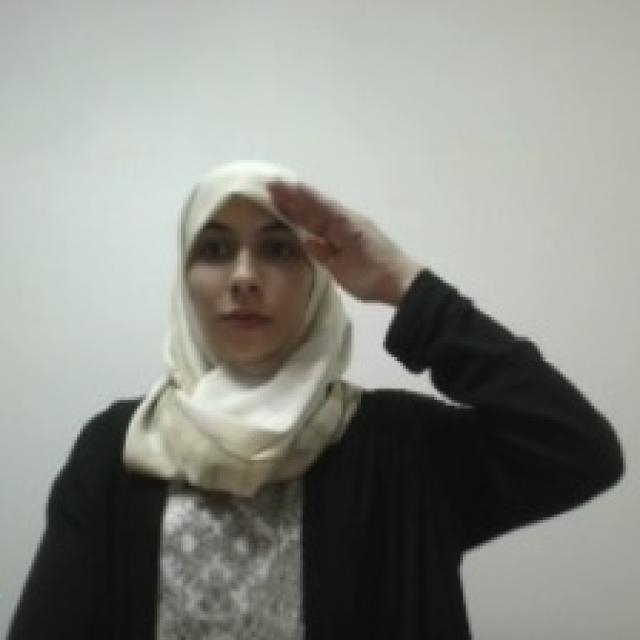Thanks: (260, 170, 403, 304)
